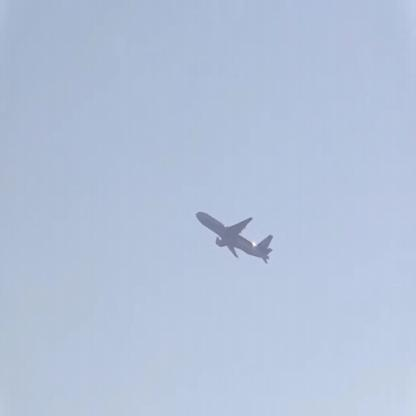CIV_Plane: (191, 203, 274, 265)
